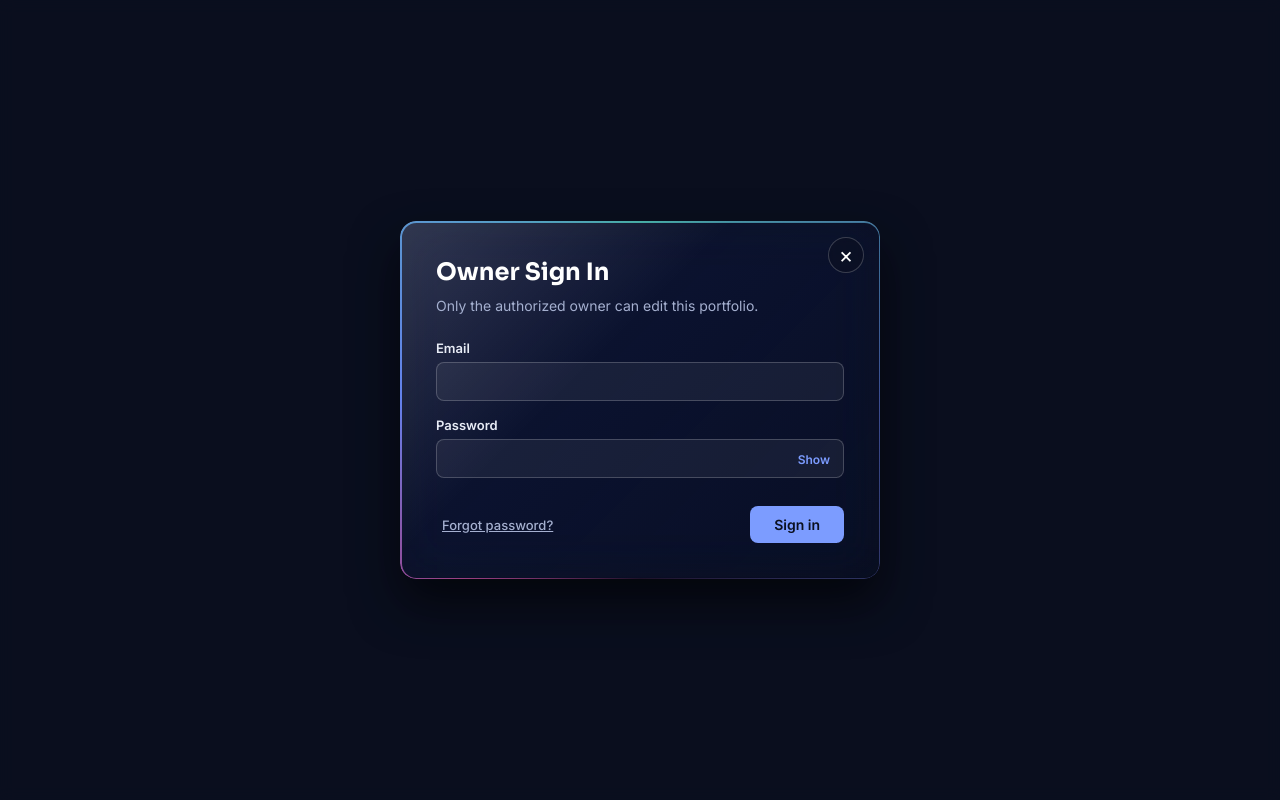
Test: SignInModal › shows success message after requesting reset
Click the button "Forgot password?" at (498, 524), box [436,516,559,534]
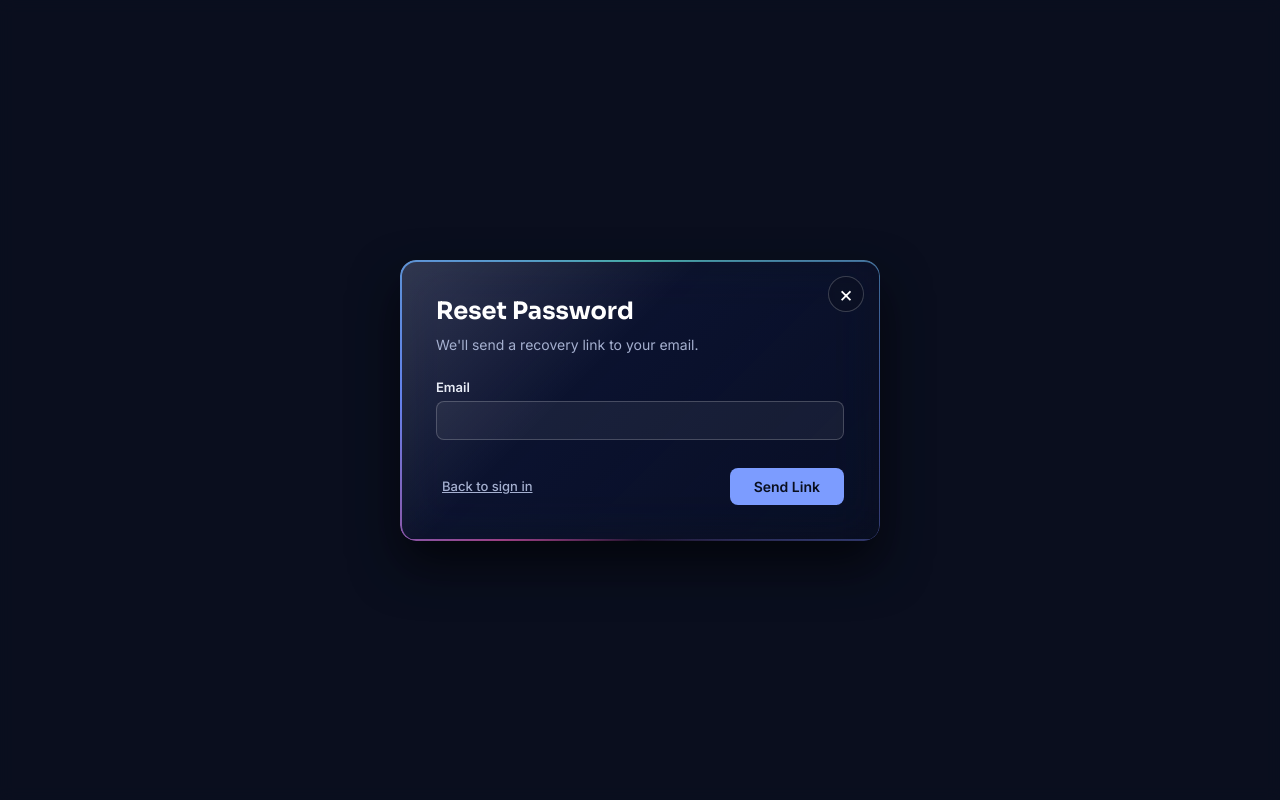
Type "test@example.com" into the field labelled "Email" at (640, 420), box [436,400,844,440]
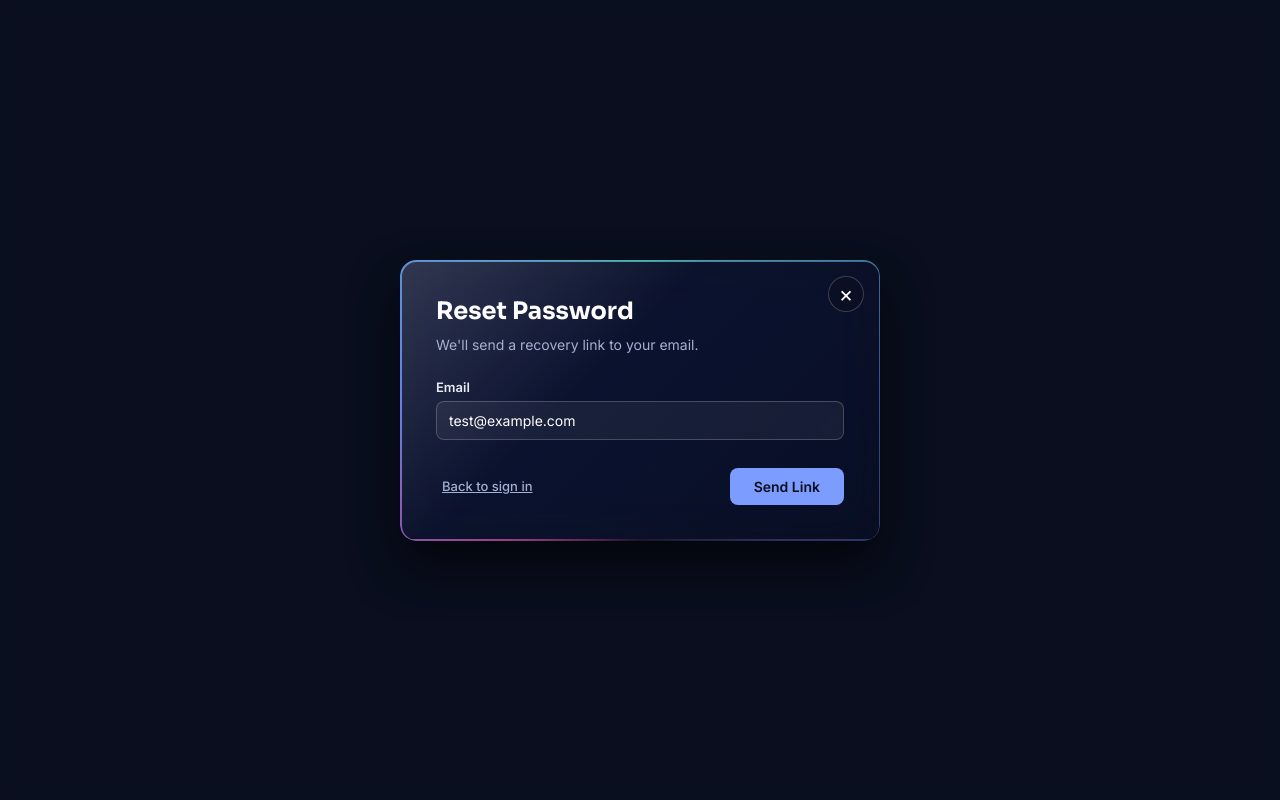
Click the button "Send Link" at (787, 486), box [730,468,844,504]
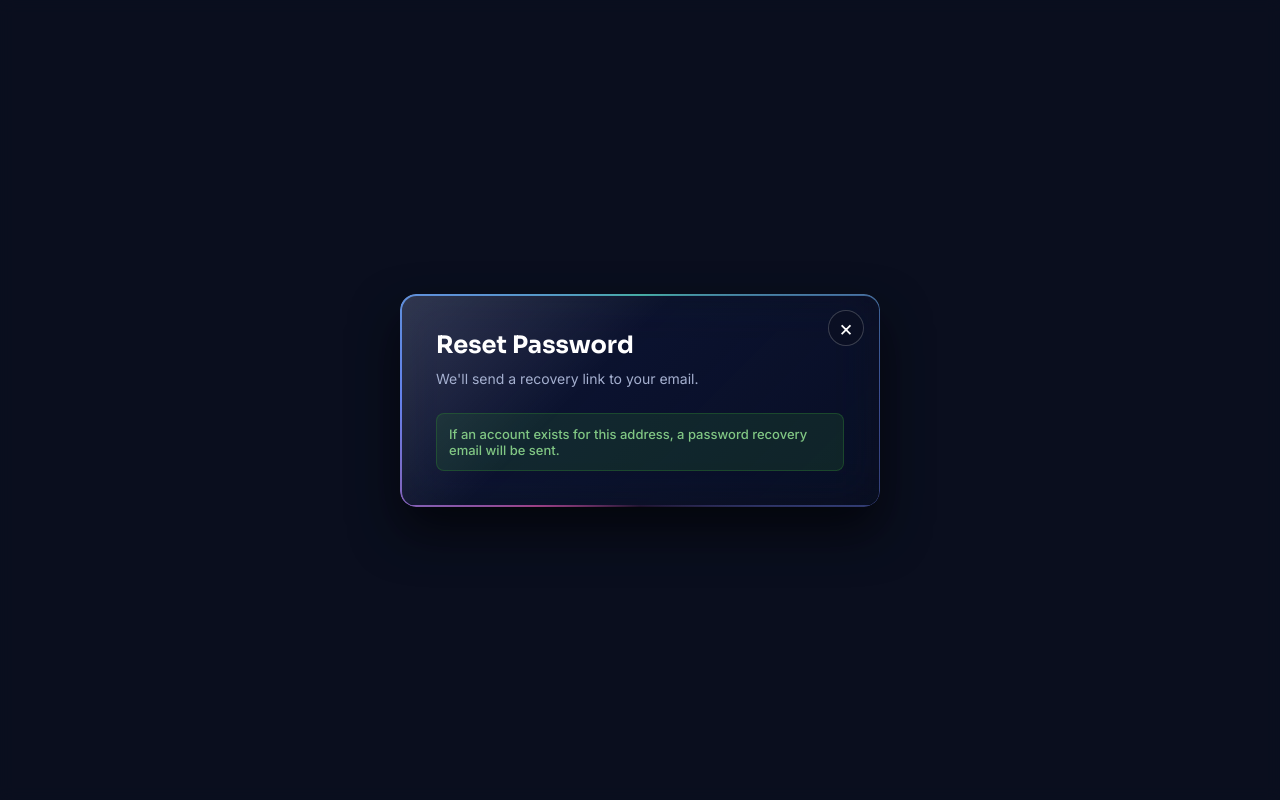
Check: the text "If an account exists for this address, a password recovery email will be sent." is shown, box [436,412,844,470]
